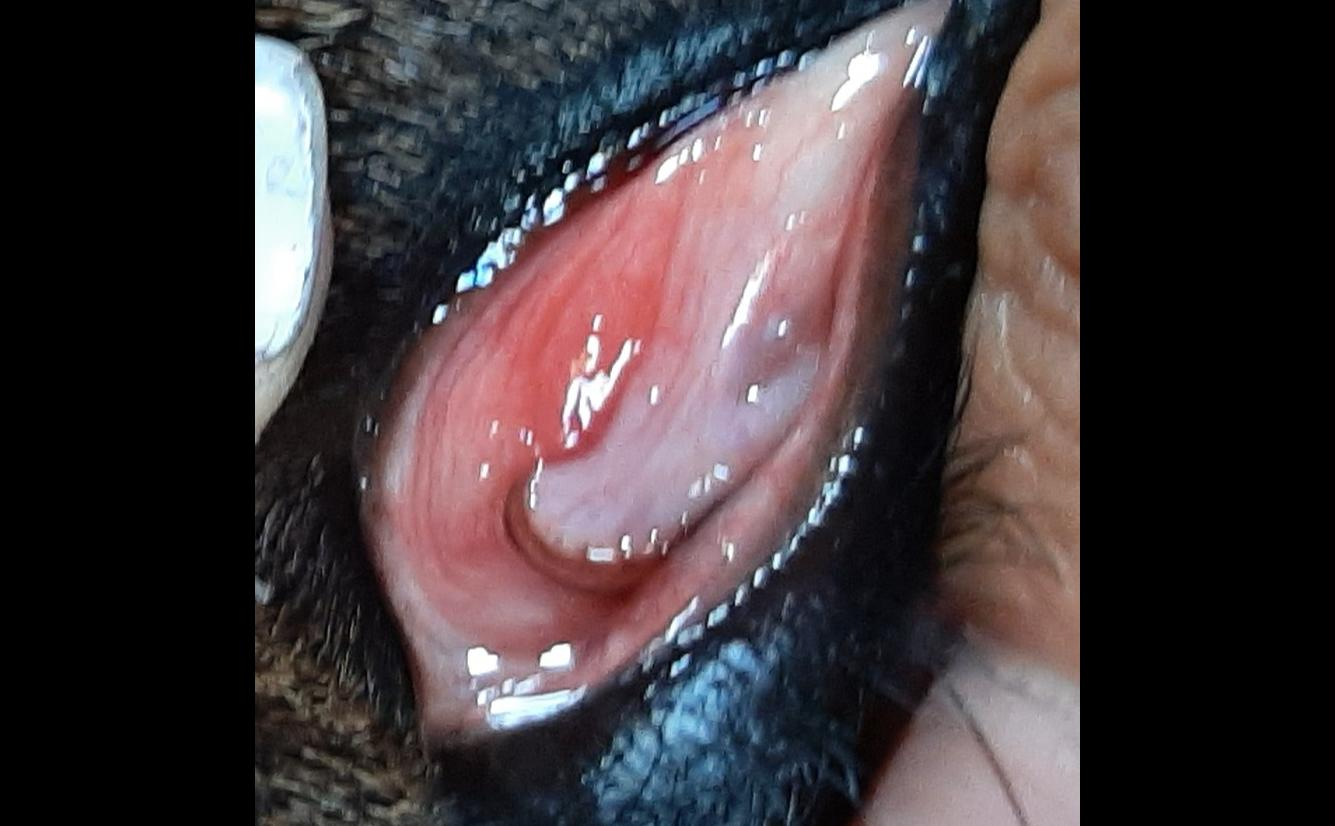eye_membrane: (389, 2, 935, 732)
